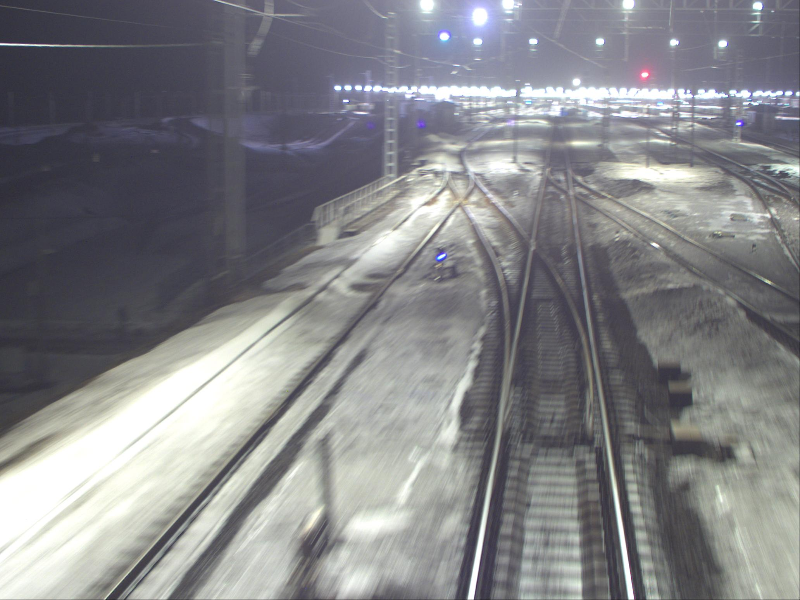railway_arrows: (496, 236, 606, 449)
